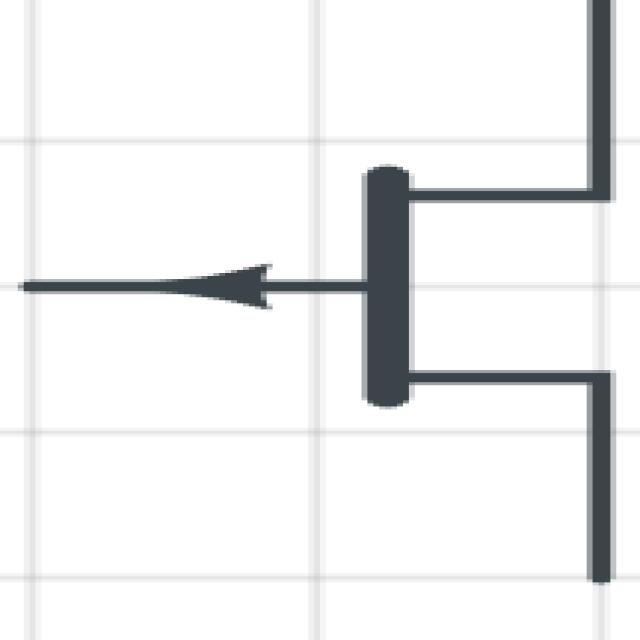nmos: (8, 6, 640, 587)
